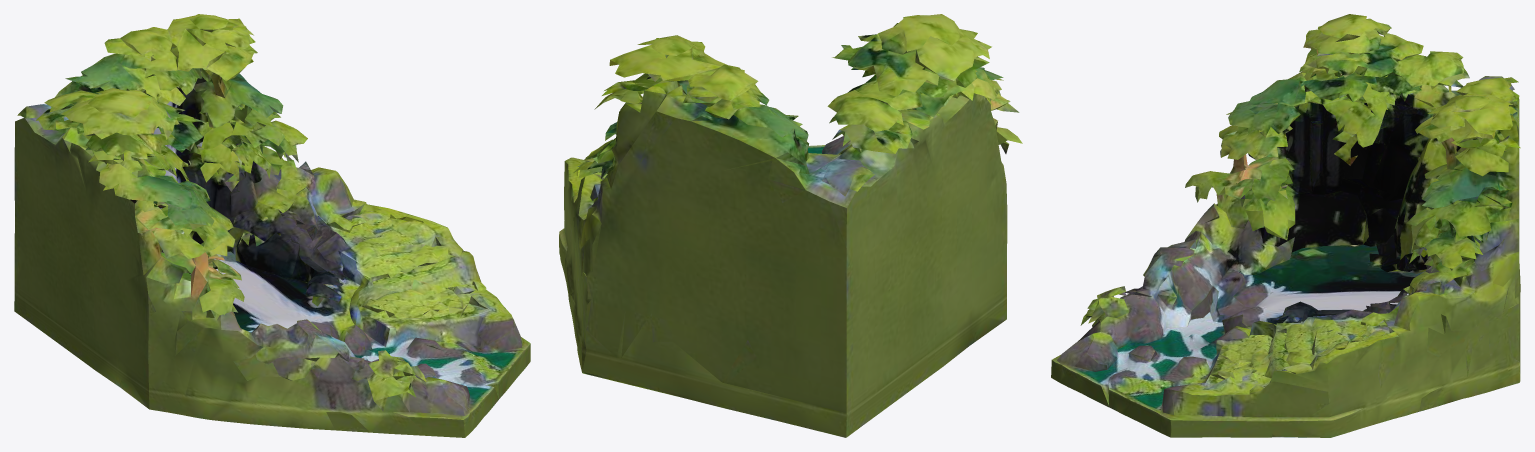
File: joren-falls.glb
3 renders of one model, left to right at view 1: azimuth 30°, elevation 25°; view 2: azimuth 150°, elevation 25°; view 3: azimuth 270°, elevation 25°, orthographic. The views are drawn at different scales.
Parts seen in each view (by area): view 1: logan-textured.obj; view 2: logan-textured.obj; view 3: logan-textured.obj.
Part boxes in pixels (x1,y1,x2,y2): logan-textured.obj: [14, 14, 530, 437]; logan-textured.obj: [559, 14, 1022, 437]; logan-textured.obj: [1051, 14, 1520, 437].
Size of the model in its own units: 0.859 by 0.6297 by 1.
Materials: 1 (1 with a texture image).
